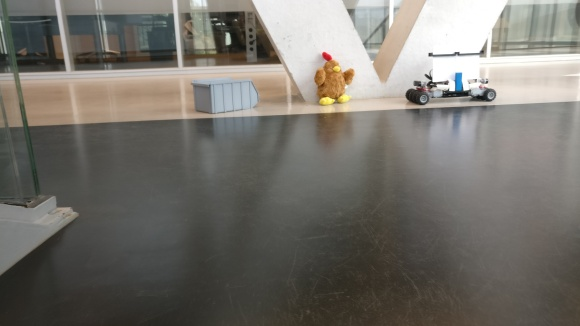car: (404, 46, 497, 105)
chicken: (313, 50, 355, 106)
tray: (189, 73, 259, 115)
